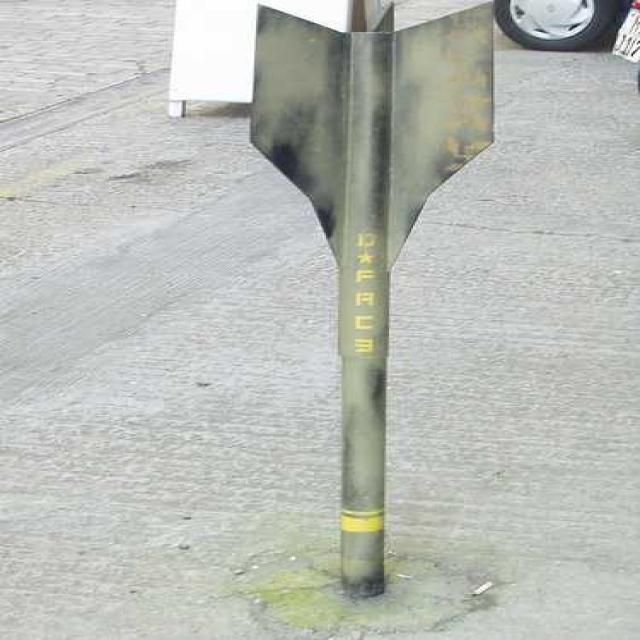missile: (252, 0, 510, 610)
